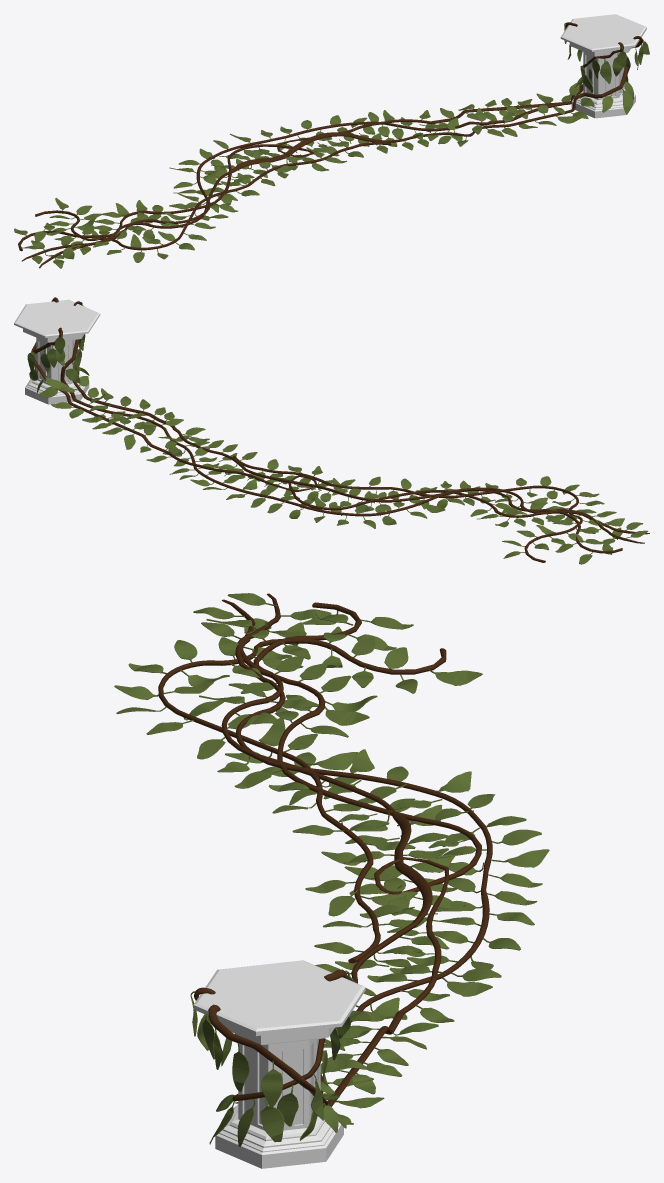
The model's file is vinesNew.fbx.
3 renders of one model, top to bottom at view 1: azimuth 30°, elevation 25°; view 2: azimuth 150°, elevation 25°; view 3: azimuth 270°, elevation 25°, orthographic. The views are drawn at different scales.
Visible parts, largest first — view 1: Plane.001, Cylinder.004, table; view 2: Plane.001, Cylinder.004, table; view 3: Plane.001, Cylinder.004, table.
Part boxes in pixels (x1,y1,x2,y2): Plane.001: (14, 22, 649, 268); Cylinder.004: (18, 22, 642, 268); table: (560, 14, 646, 118); Plane.001: (27, 302, 648, 564); Cylinder.004: (31, 297, 649, 562); table: (14, 299, 100, 404); Plane.001: (114, 593, 549, 1146); Cylinder.004: (158, 593, 492, 1107); table: (193, 960, 365, 1168).
Bounding box in the file's own units: 512 × 72.28 × 155.
